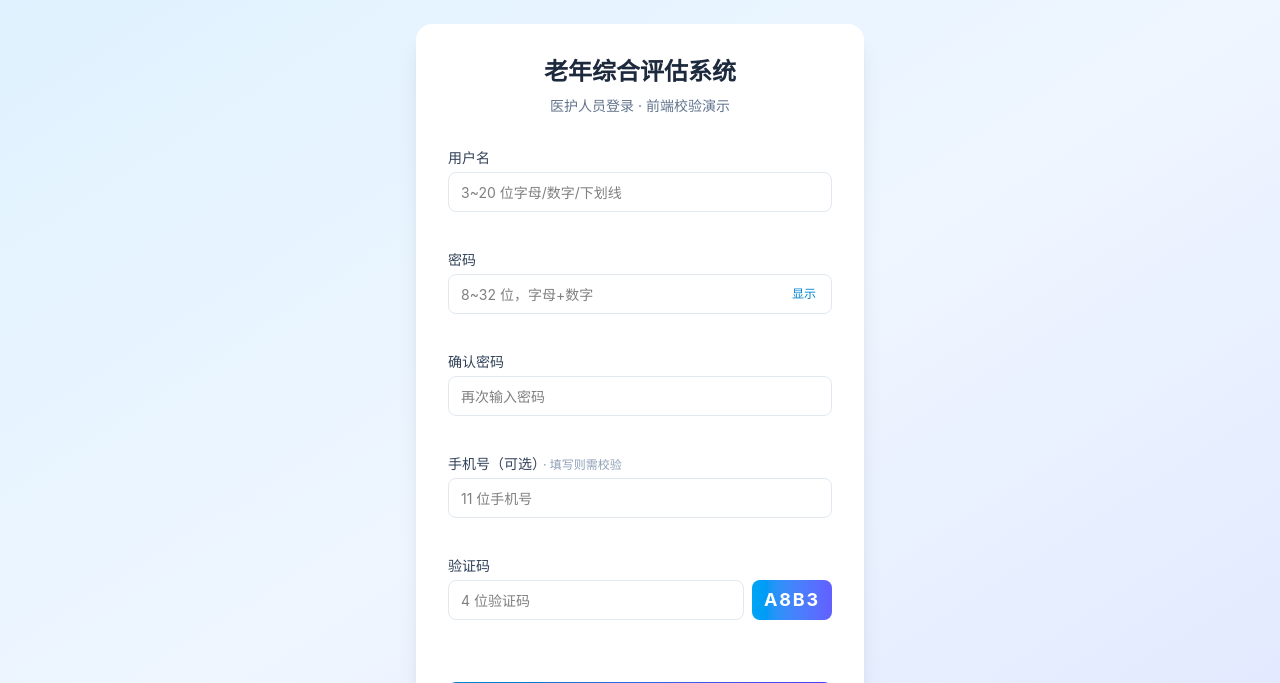
Test: LoginForm › 用户名失焦后立即显示错误
Step 1. Type "ab" into the field with placeholder "3~20 位字母/数字/下划线" → (640, 192), box [448, 172, 832, 212]
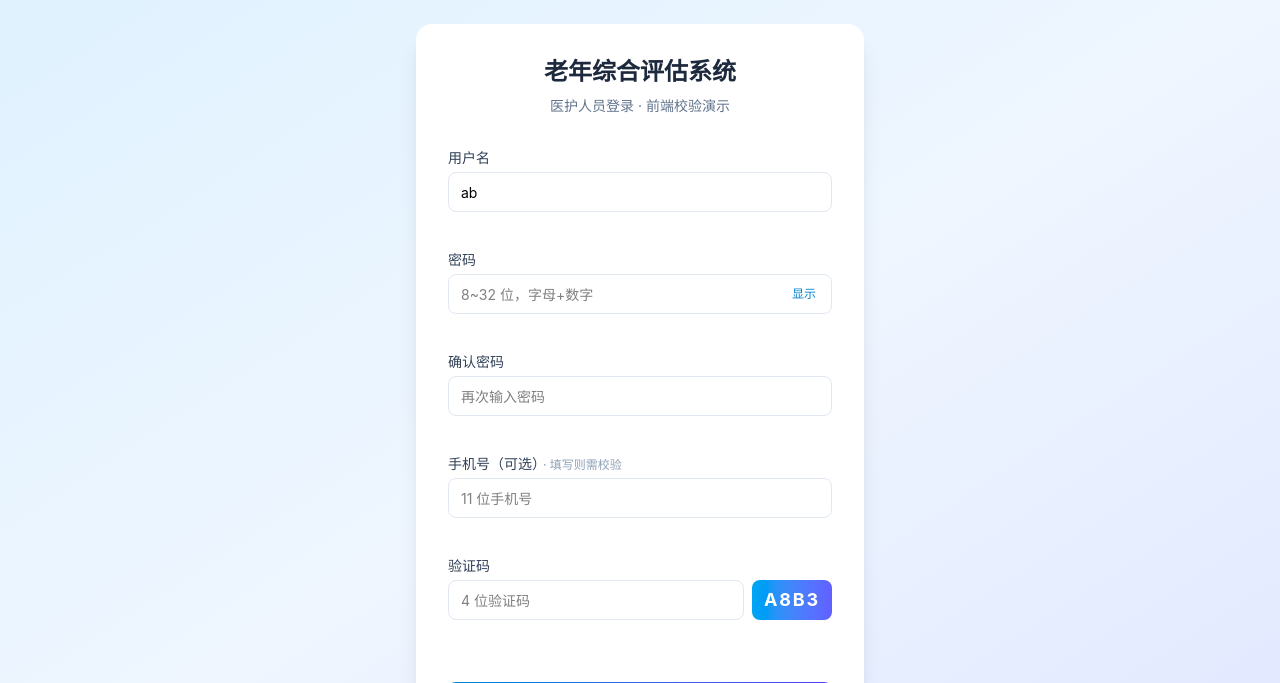
Step 2. Leave the field with placeholder "3~20 位字母/数字/下划线", box [448, 172, 832, 212]
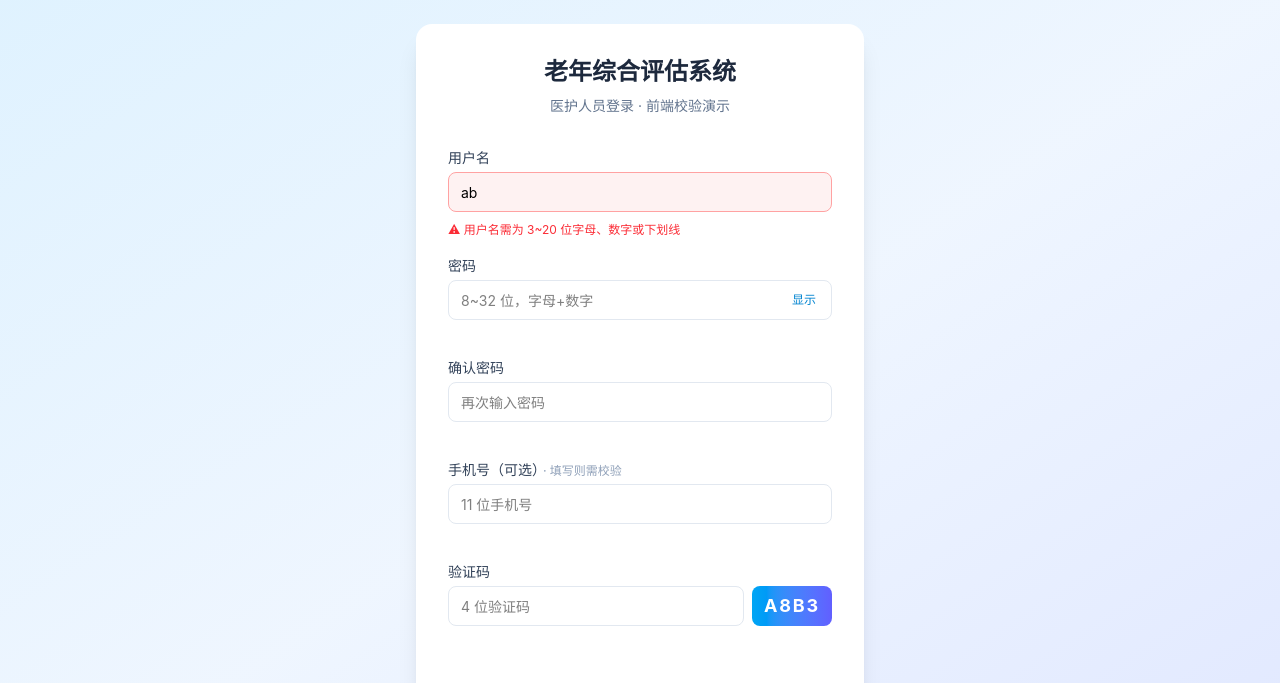
Expected: the text "⚠ 用户名需为 3~20 位字母、数字或下划线" is shown, [448, 222, 680, 237]
